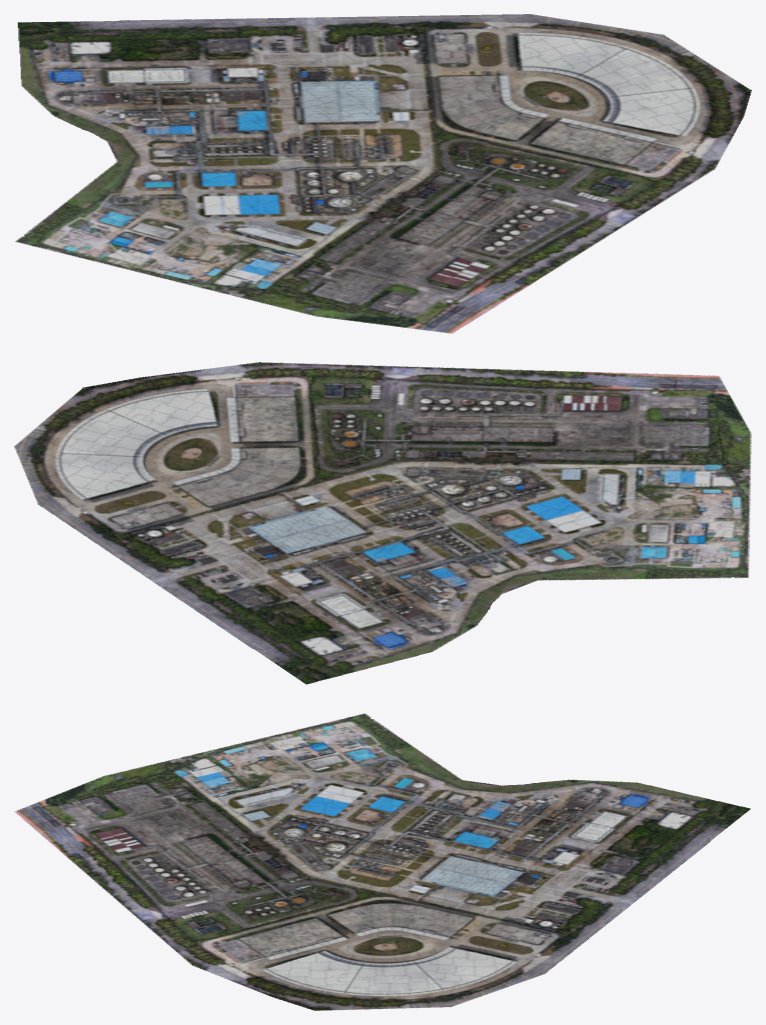
File: dixing_04_111.fbx
3 views of the same model, one above another, from view 1: azimuth 30°, elevation 25°; view 2: azimuth 150°, elevation 25°; view 3: azimuth 270°, elevation 25° (orthographic). The views are drawn at different scales.
Visible parts, largest first — view 1: dixing_04_111; view 2: dixing_04_111; view 3: dixing_04_111.
Part boxes in pixels (bbox=[...]): dixing_04_111: bbox=[15, 14, 751, 333]; dixing_04_111: bbox=[14, 362, 751, 684]; dixing_04_111: bbox=[14, 713, 750, 1010].
Size of the model in its own units: 55246 by 0.00689 by 57838.
1 material, 1 textured.
